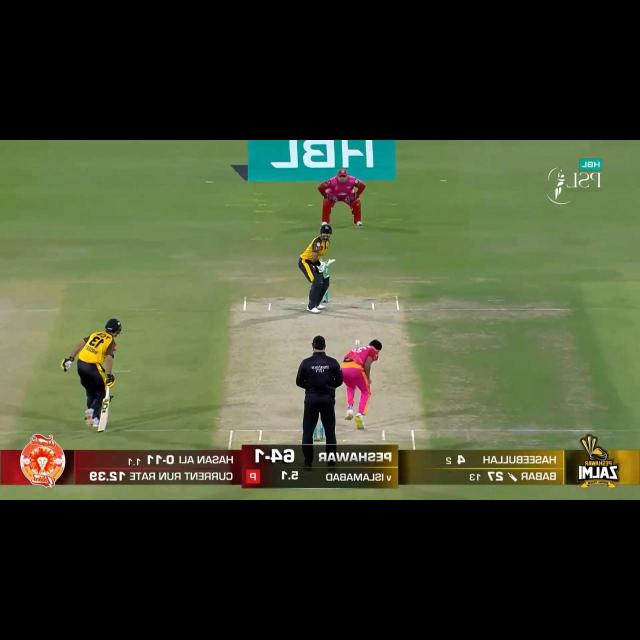bat: (95, 398, 111, 432), (320, 256, 338, 266)
toe: (329, 254, 338, 266), (97, 426, 107, 432)
